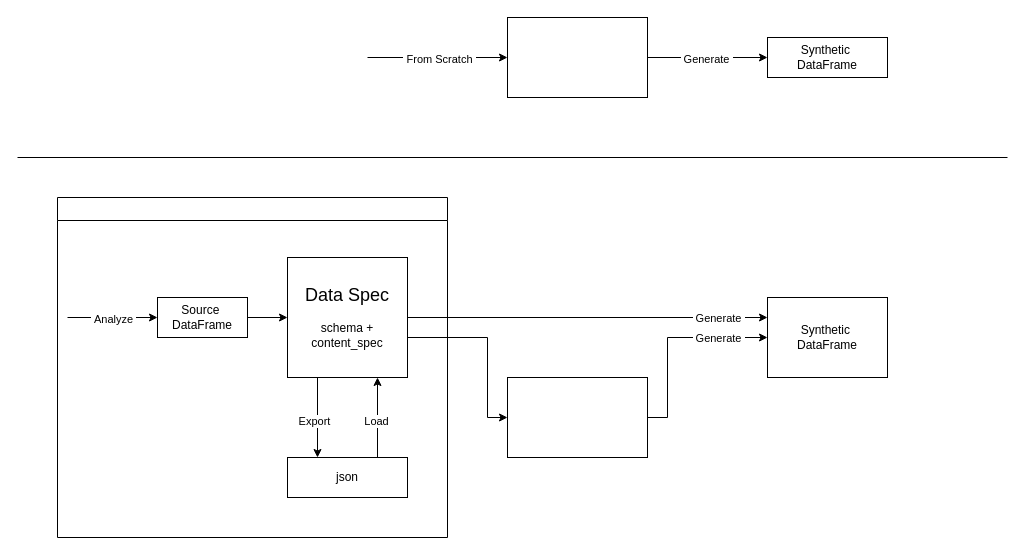
This 1026x555 diagram has some shape labels left out. The box of each missing label's shape, as (x1, y1, x2, y2) in pixels:
Profiling Existing Data: (56, 196, 448, 538)
Python Code: (506, 16, 648, 98)
Python Code Customize generation: (506, 376, 648, 458)
